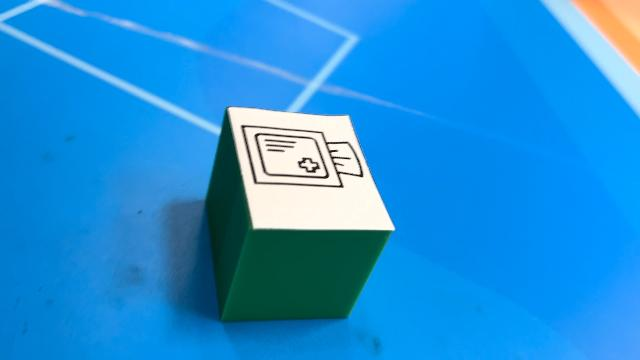napkin: (203, 106, 397, 322)
